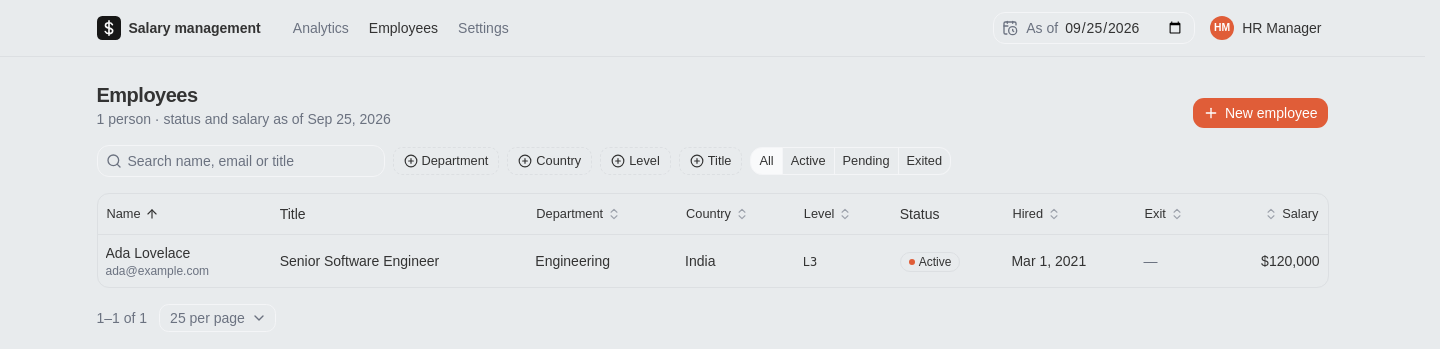
Scenario: app › shows the date in use again when the as-of box is left empty
Clear the date field labelled "As of" at (1126,28), box 1058,12 -> 1194,44
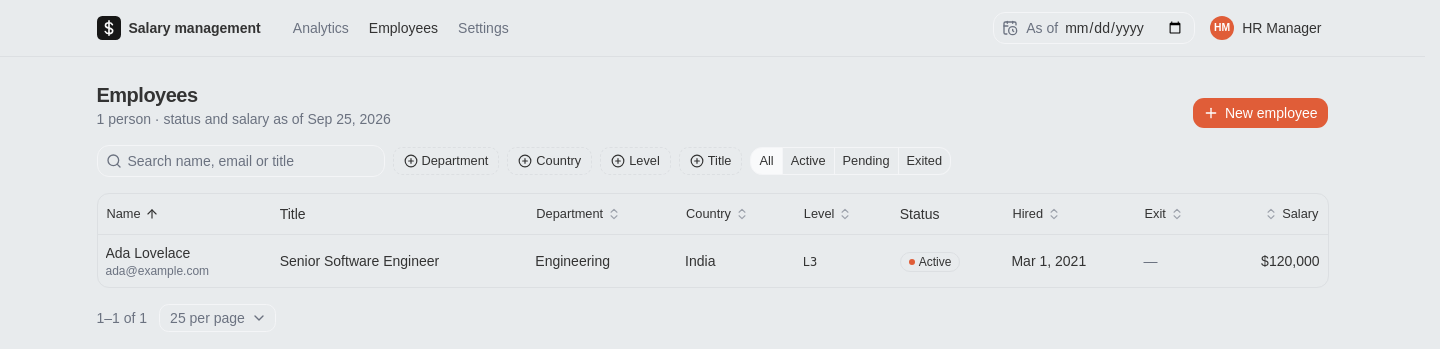
Leave the date field labelled "As of", box 1058,12 -> 1194,44
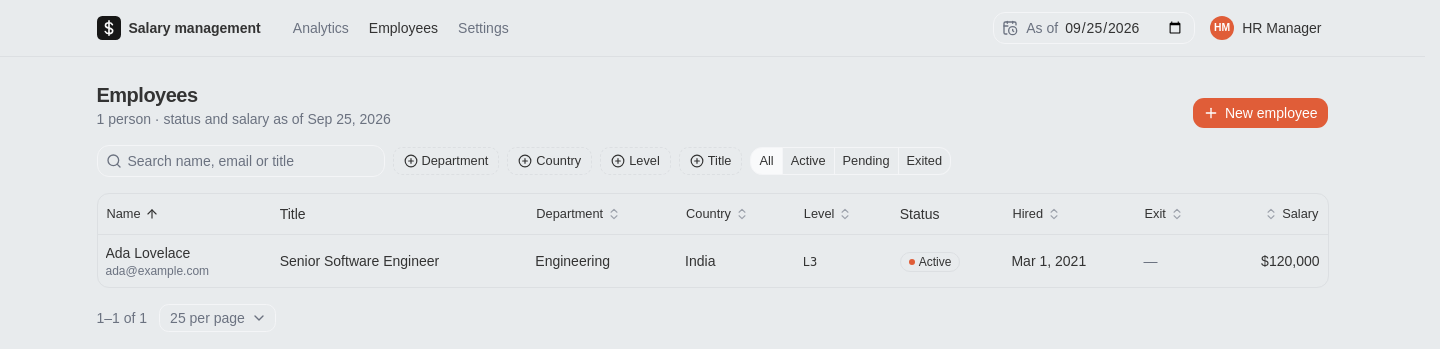
Check: the date field labelled "As of" holds "2026-09-25", box 1058,12 -> 1194,44
